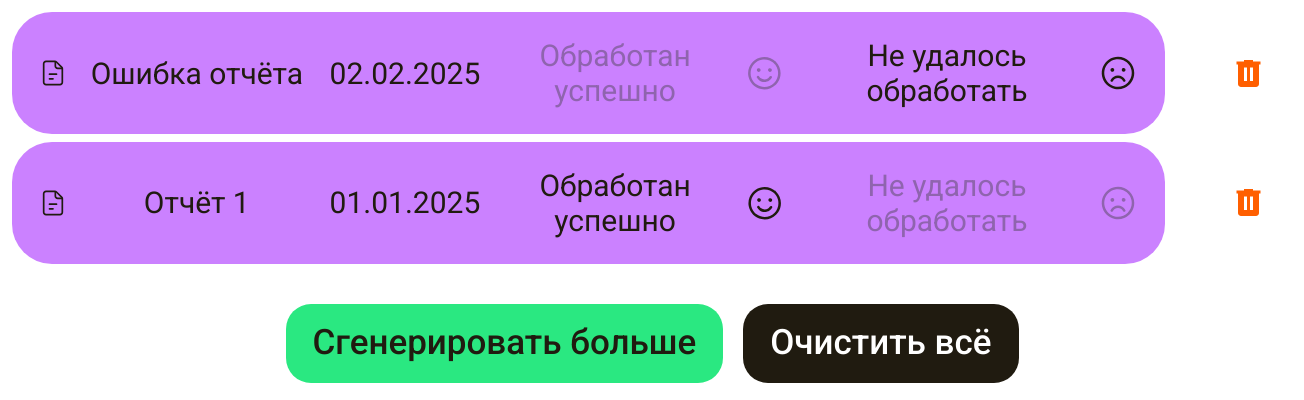
Scenario: HistoryList integration › удаляет запись при клике на кнопку удаления
Click the 2nd button named "удалить". click: (1248, 202)
box: x1=1205 y1=159 x2=1292 y2=246
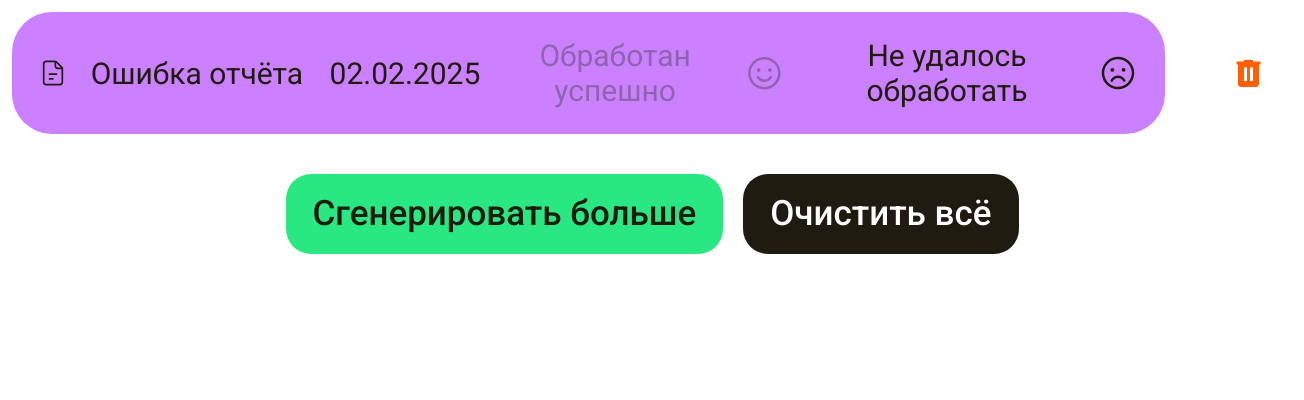
Check: the element with test id "history-item-1" is gone
